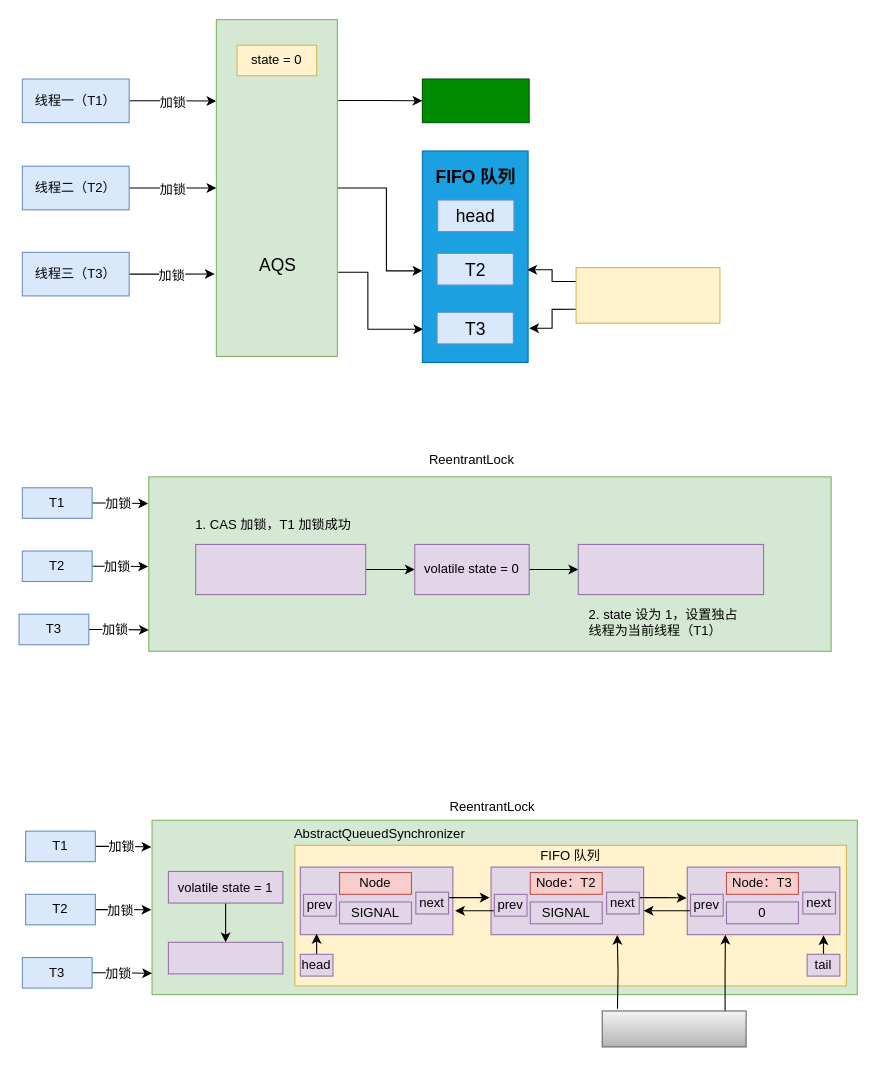
Image size: 876x1066. Some labels were removed from this diagram. Here are the shapes that lost their labels. From the top down, the centre of each, then its label:
point 475,100: T1 获得锁 state = 1
point 647,295: LockSupport.park() T1、T2 被挂起
point 280,569: CAS compareAndSetState(0,1)
point 670,569: state 0 -> 1 exclusiveOwnerThread = T1
point 225,957: 当前加锁线程 = T1
point 673,1028: LockSupport.park() 使得 T2、T3 挂起
